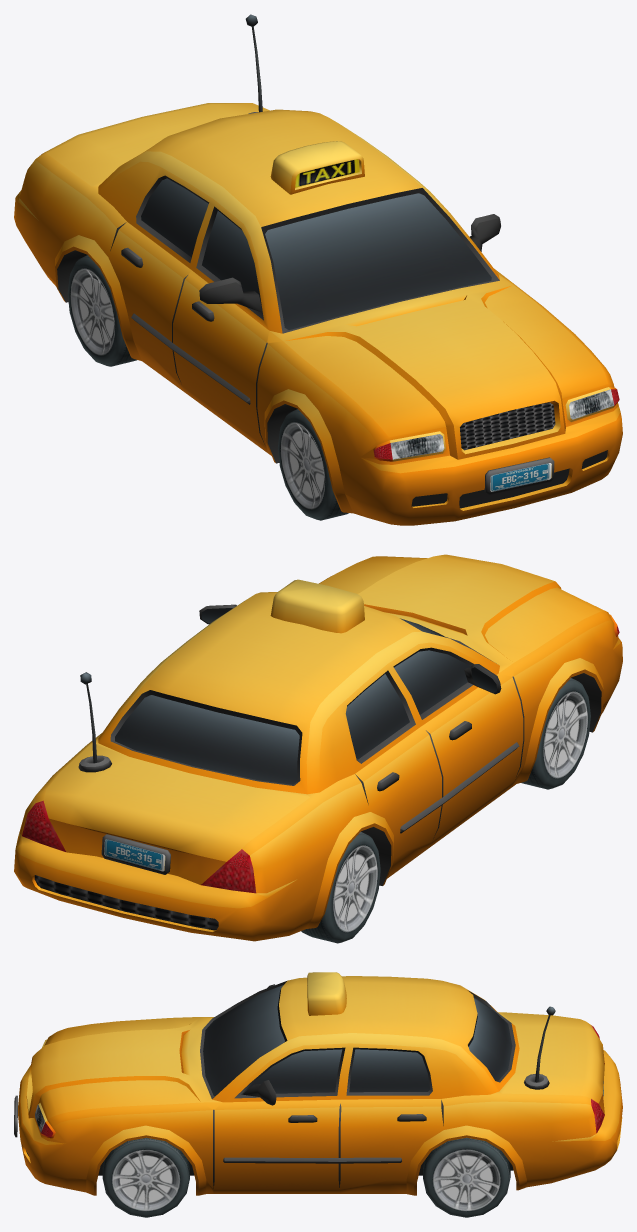
Rendered from VHC0110011.FBX.
The picture shows the model from 3 angles, top to bottom: view 1: azimuth 30°, elevation 25°; view 2: azimuth 150°, elevation 25°; view 3: azimuth 270°, elevation 25°; orthographic projection. The views are drawn at different scales.
Visible parts, largest first — view 1: smVHC0110011; view 2: smVHC0110011; view 3: smVHC0110011.
Boxes of the visible parts, left/top/right/bottom form: smVHC0110011: left=14, top=14, right=622, bottom=525; smVHC0110011: left=14, top=554, right=622, bottom=943; smVHC0110011: left=14, top=972, right=622, bottom=1217.
Bounding box in the file's own units: 1.6 × 1.31 × 3.7.
1 material, 1 textured.
